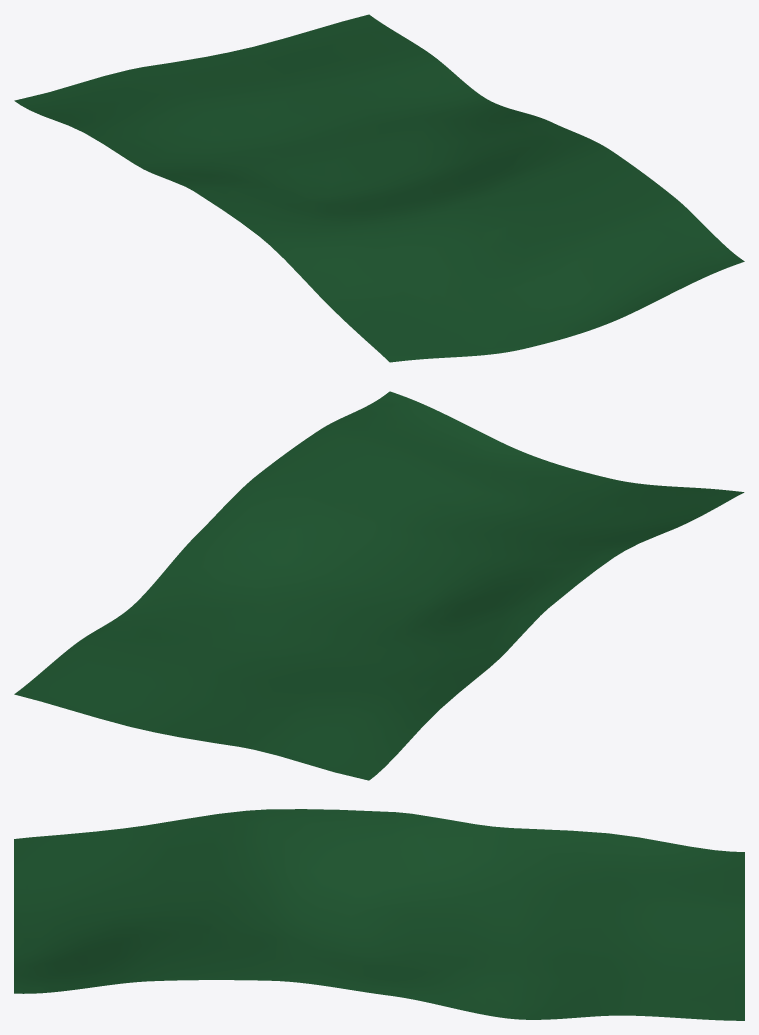
The model's file is payo_land_x4_ym4.glb.
3 renders of one model, top to bottom at view 1: azimuth 30°, elevation 25°; view 2: azimuth 150°, elevation 25°; view 3: azimuth 270°, elevation 25°, orthographic. The views are drawn at different scales.
Visible parts, largest first — view 1: payo_land_x4_ym4; view 2: payo_land_x4_ym4; view 3: payo_land_x4_ym4.
Part boxes in pixels (x1,y1,x2,y2): payo_land_x4_ym4: (14, 14, 744, 362); payo_land_x4_ym4: (14, 391, 744, 780); payo_land_x4_ym4: (14, 809, 744, 1020).
Size of the model in its own units: 126 by 16.97 by 231.
